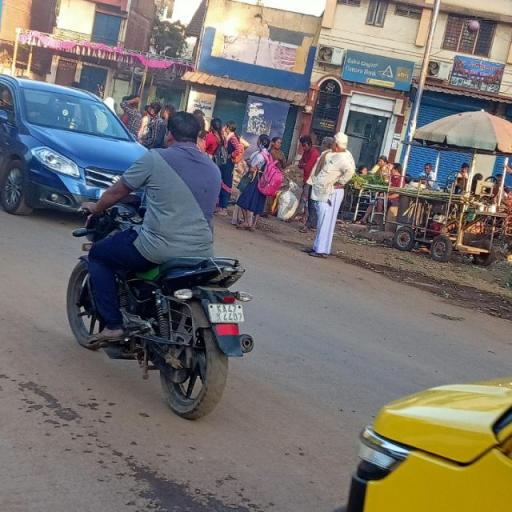bike: (53, 107, 273, 417)
numberplate: (208, 304, 247, 324)
withouthelmet: (166, 112, 199, 144)
